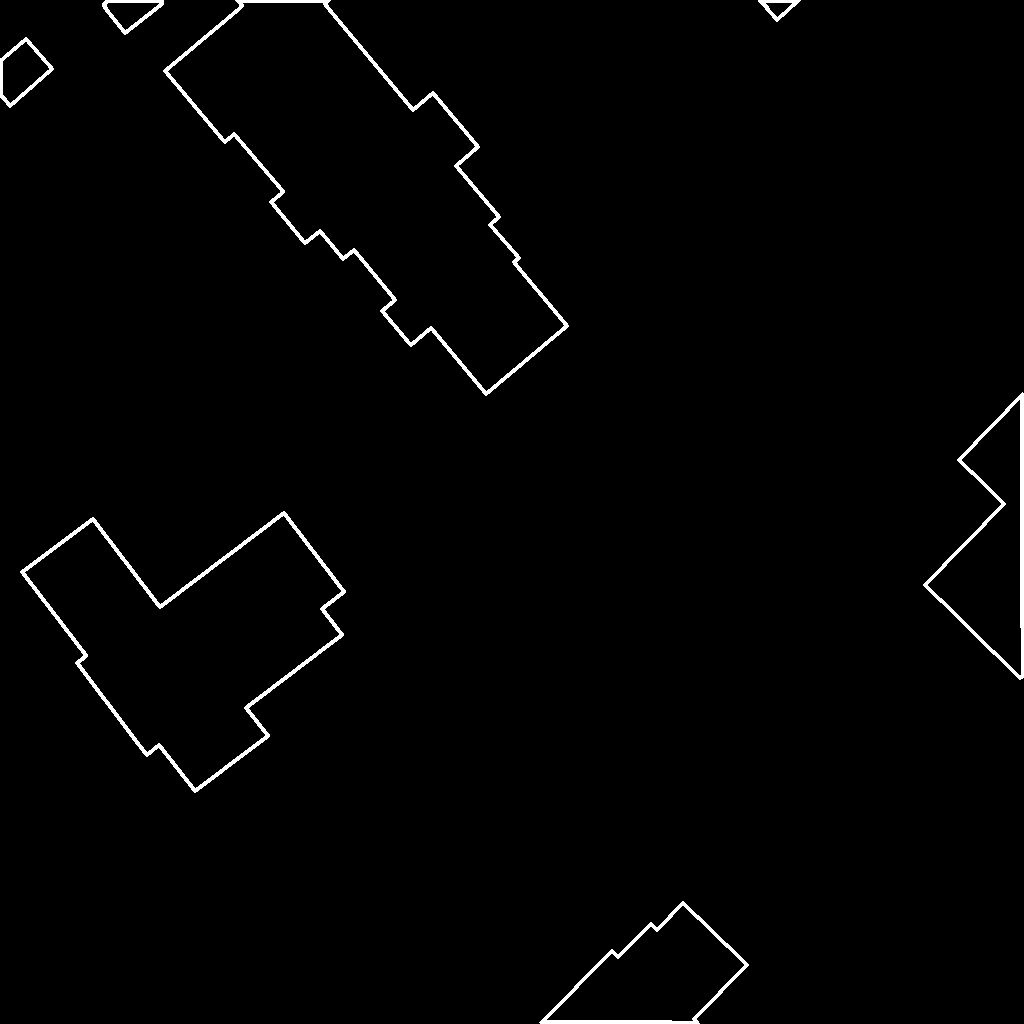building: (165, 0, 568, 395), (22, 513, 345, 792), (925, 394, 1024, 679), (541, 903, 748, 1024), (0, 39, 53, 107), (103, 0, 164, 34), (759, 0, 800, 21)
